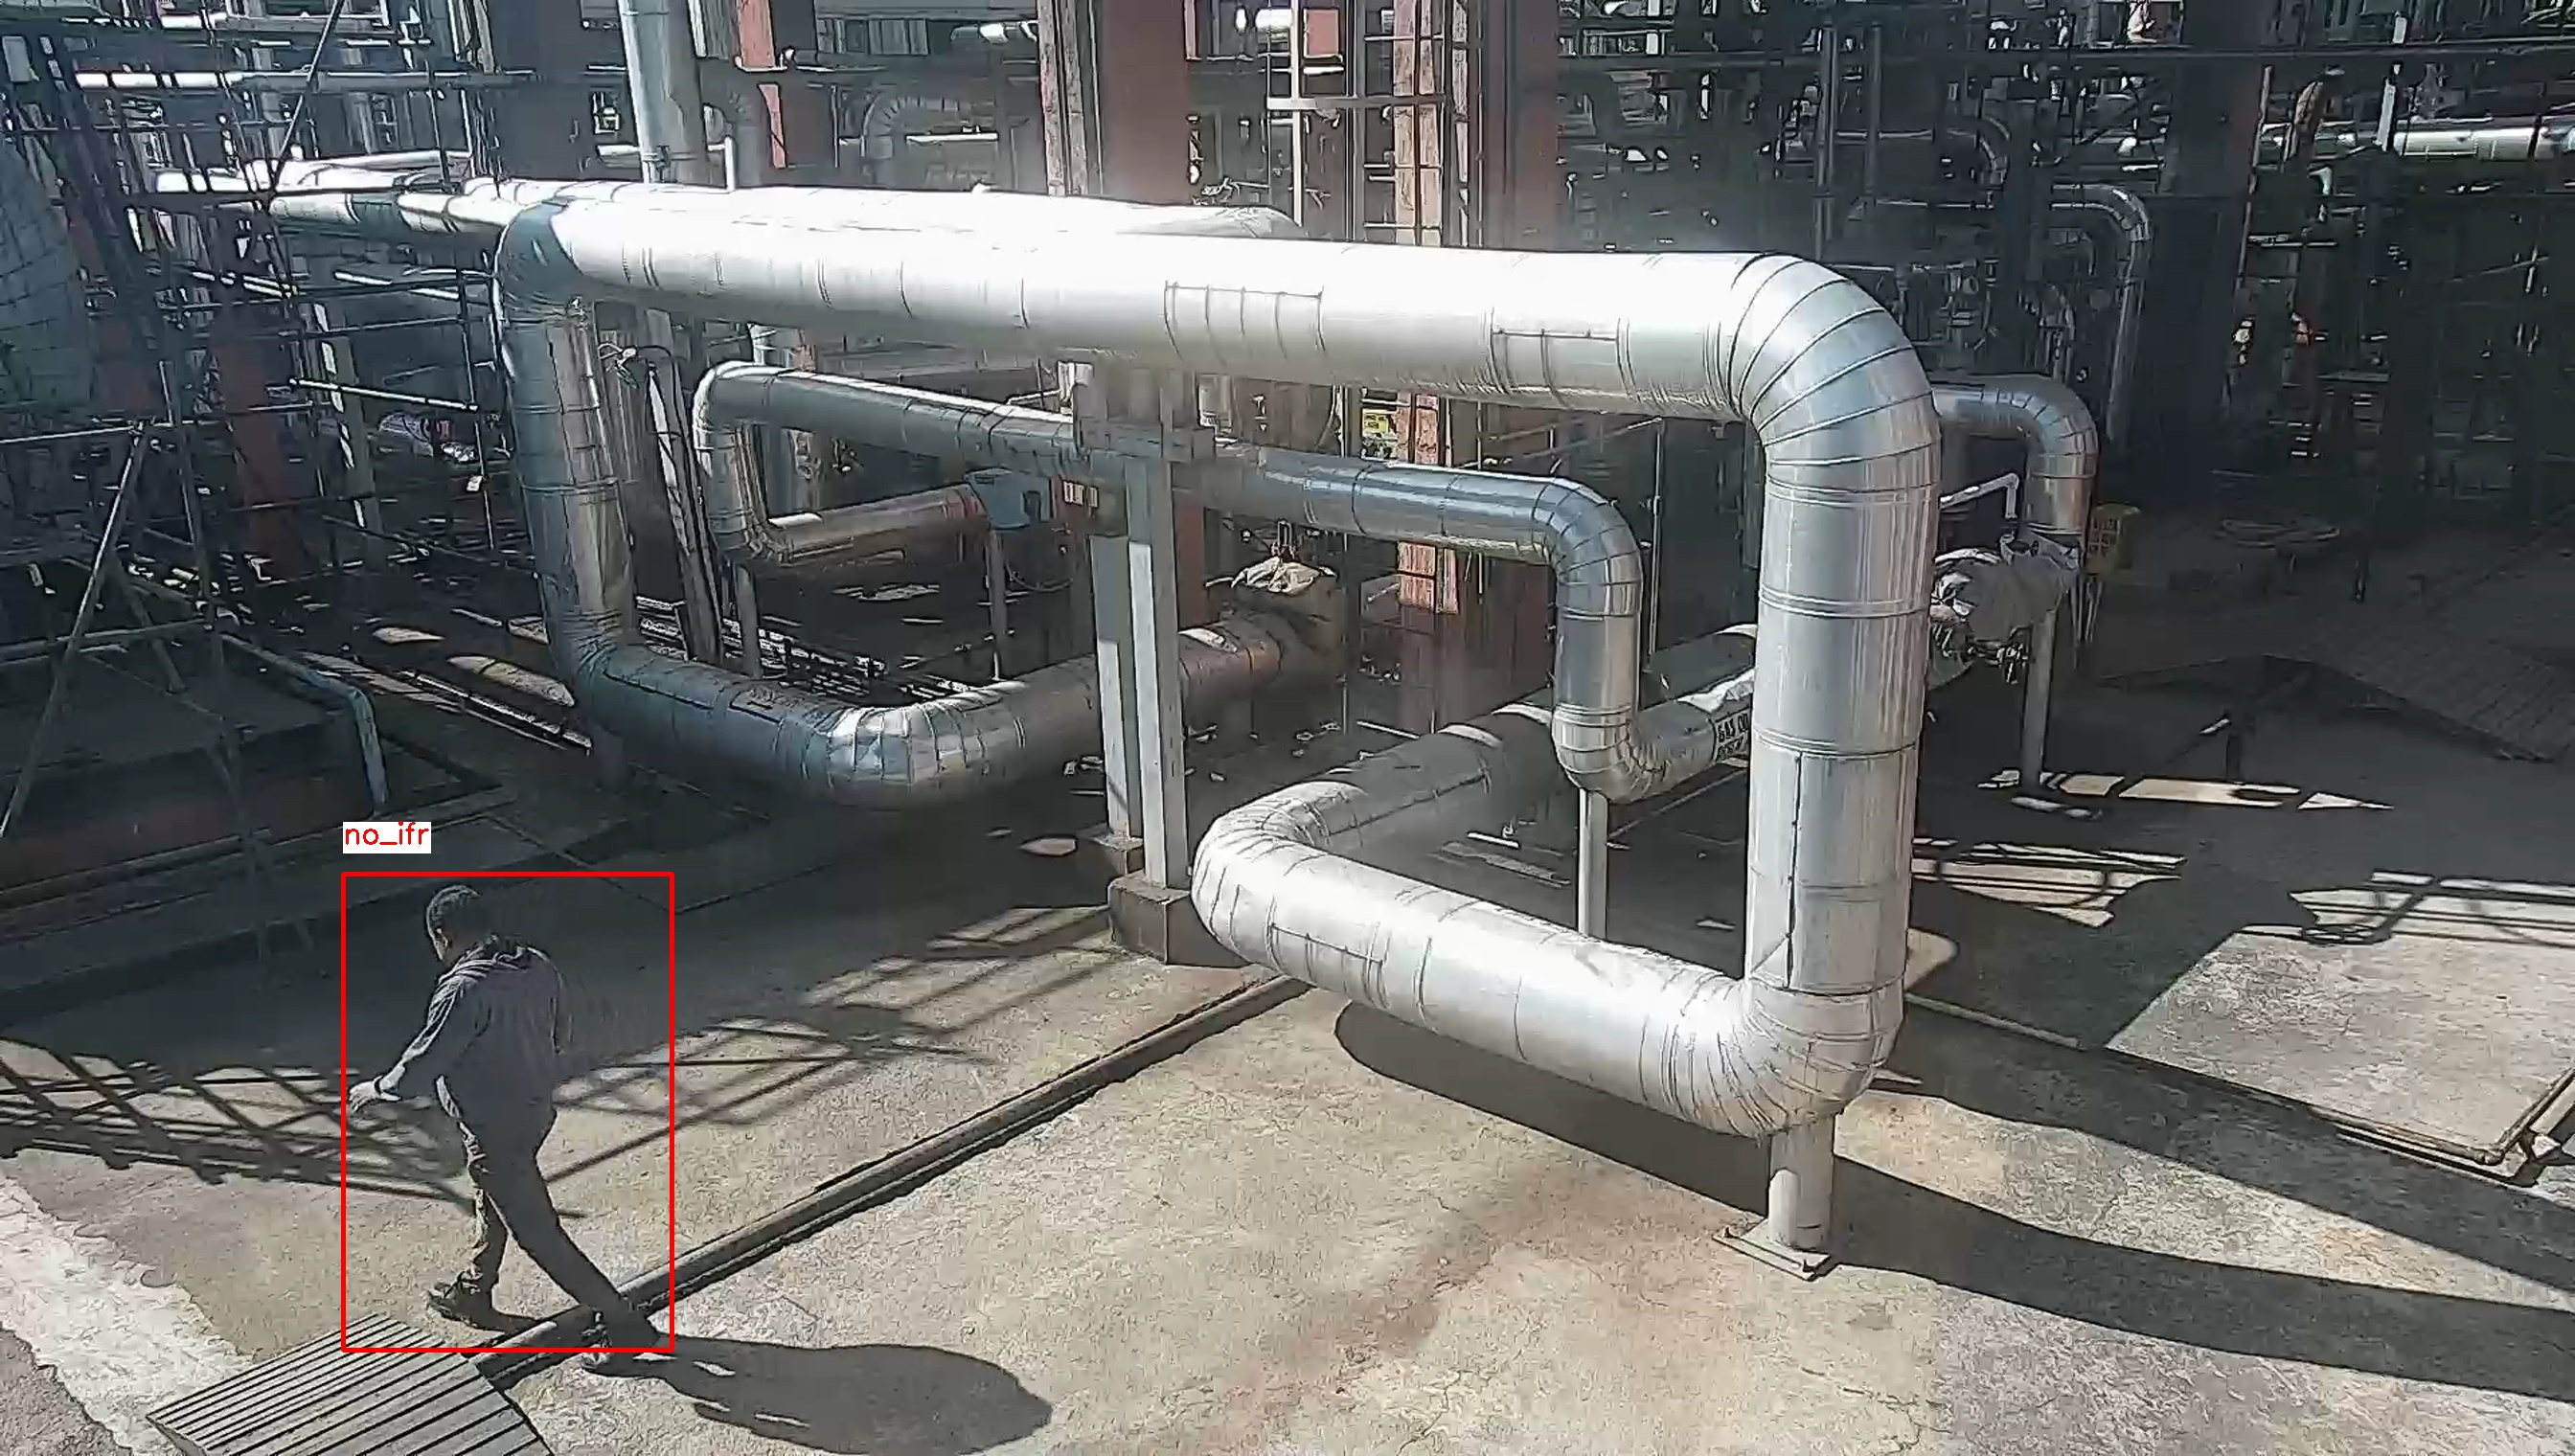Boots: (423, 1261, 504, 1327)
